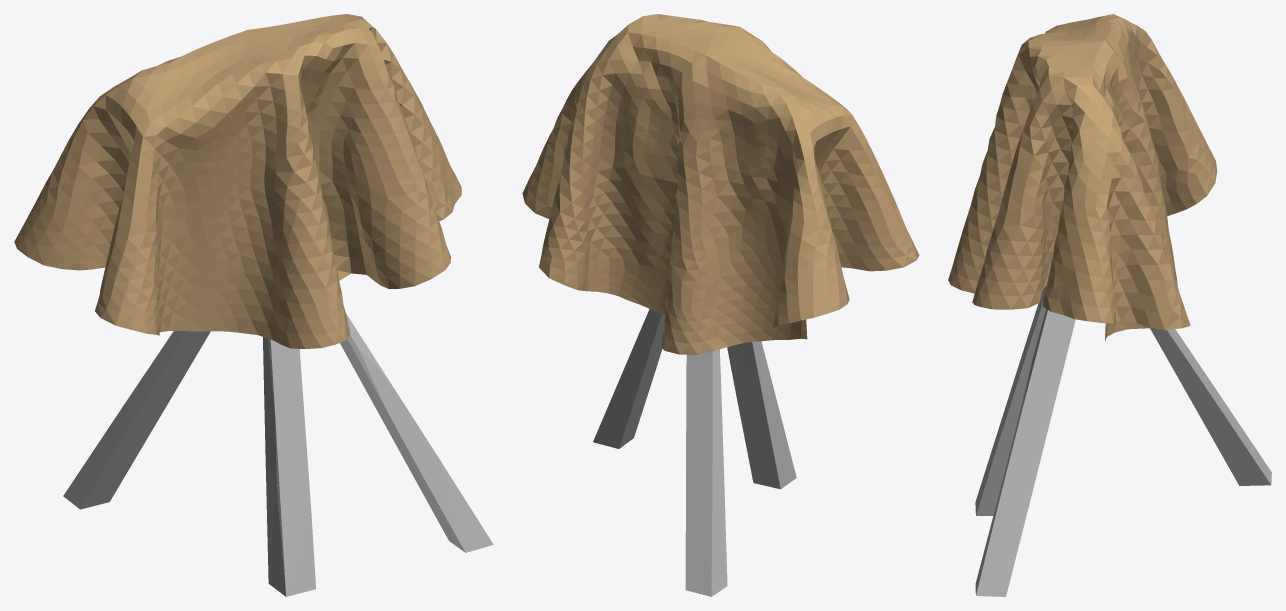
File: level_1.glb
3 renders of one model, left to right at view 1: azimuth 30°, elevation 25°; view 2: azimuth 150°, elevation 25°; view 3: azimuth 270°, elevation 25°, orthographic. The views are drawn at different scales.
Parts seen in each view (by area): view 1: world, object.obj; view 2: world, object.obj; view 3: world, object.obj.
Part boxes in pixels (x1,y1,x2,y2): world: [14, 14, 461, 348]; object.obj: [63, 313, 493, 596]; world: [522, 14, 919, 354]; object.obj: [593, 309, 796, 596]; world: [948, 14, 1217, 341]; object.obj: [975, 287, 1271, 596].
Bounding box in the file's own units: 0.3264 × 0.4073 × 0.2484.
